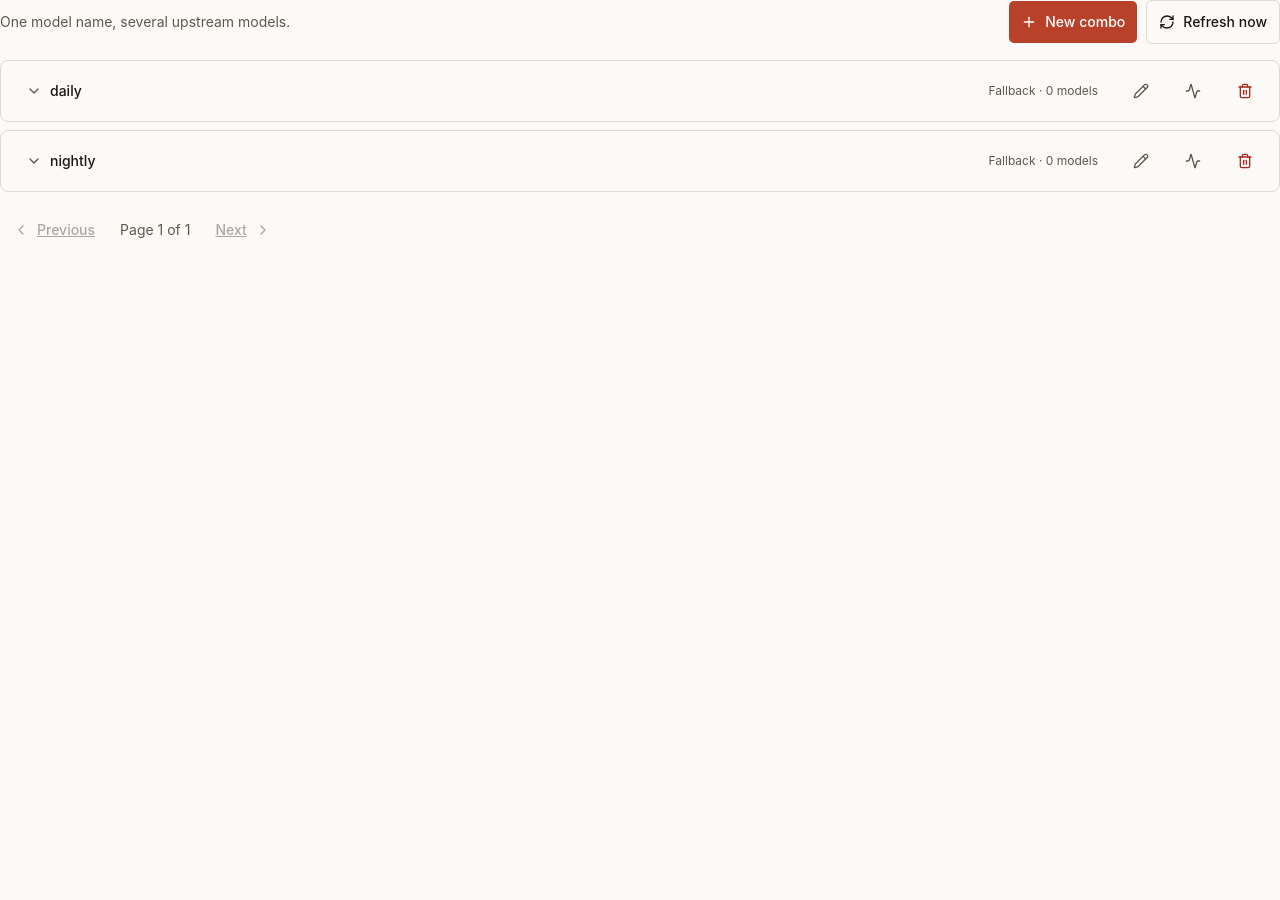
opening the test › offers the action on every row and sends nothing until it is confirmed
Click the 1st button named "Test" at (1193, 91), box [1171,69,1215,113]
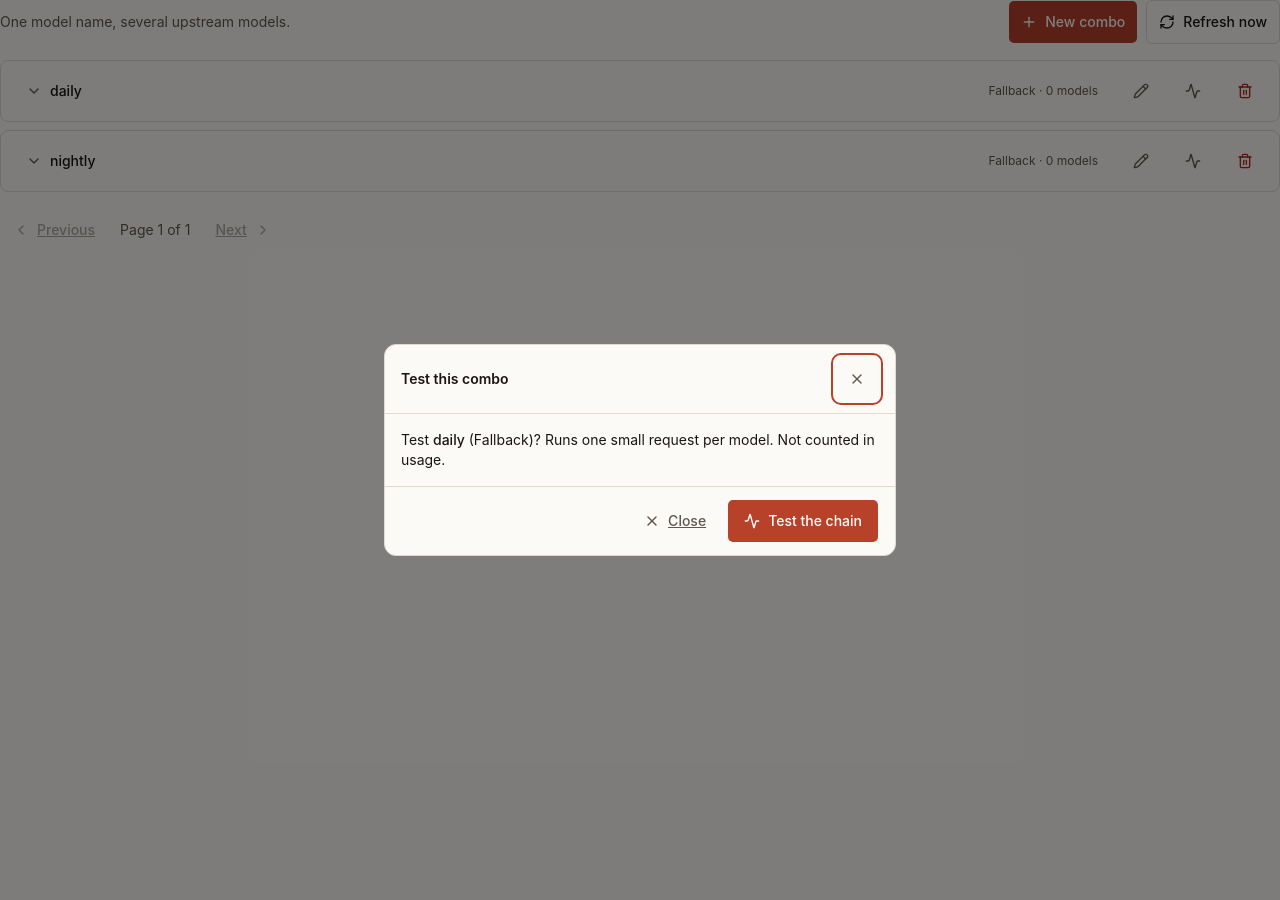
Check: the text "Not counted in usage" is shown, box [401,431,875,468]
